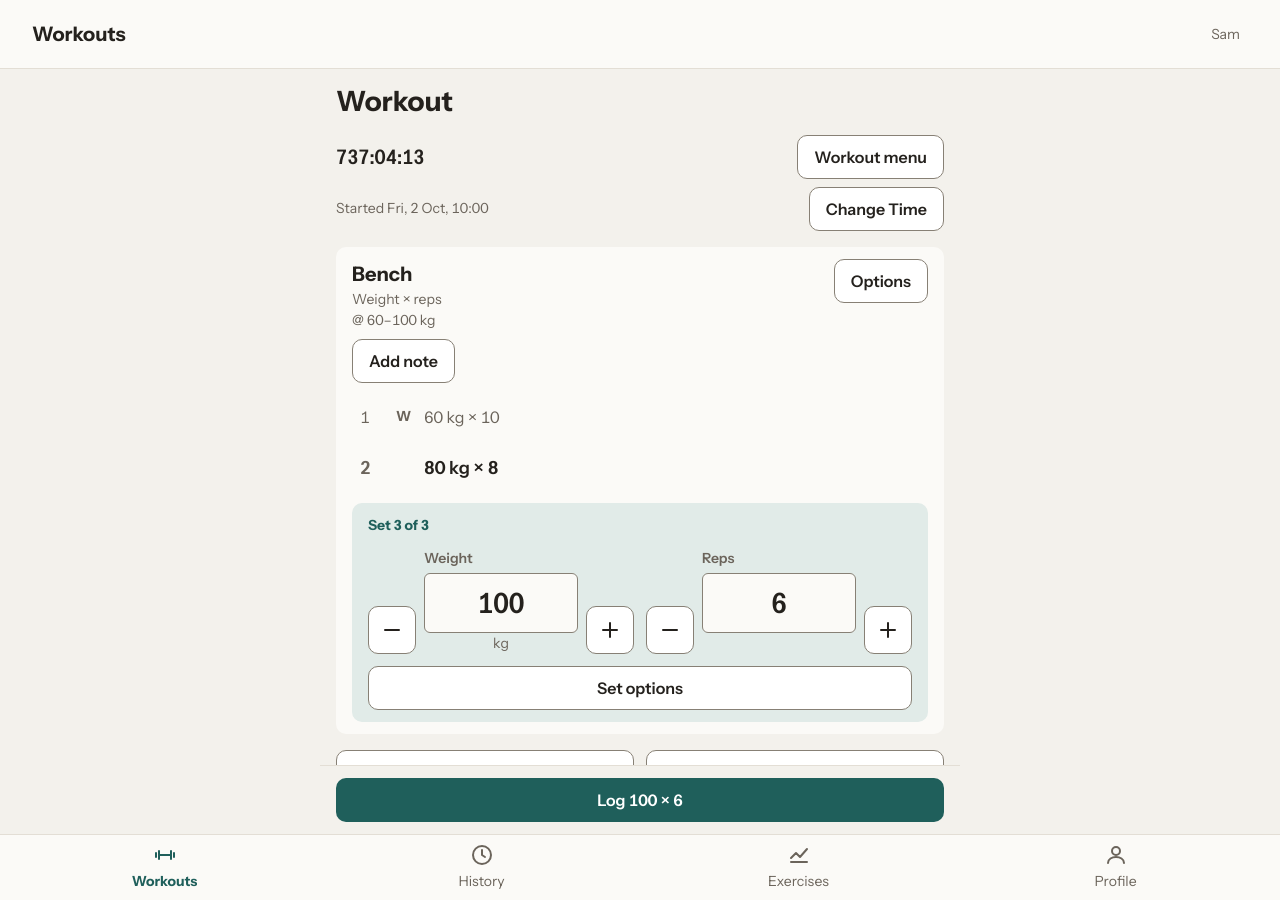
10.2 AC25 — a count change that is not this row's own log › deleting a set steps the label back and reseeds an untouched draft
Expected: the heading "Workout" is shown, x1=336 y1=84 x2=453 y2=118
Expected: the text "Set 3 of 3" is shown, x1=368 y1=515 x2=429 y2=536
Click the button "2 80 kg × 8": (461,468) x1=352 y1=447 x2=928 y2=491
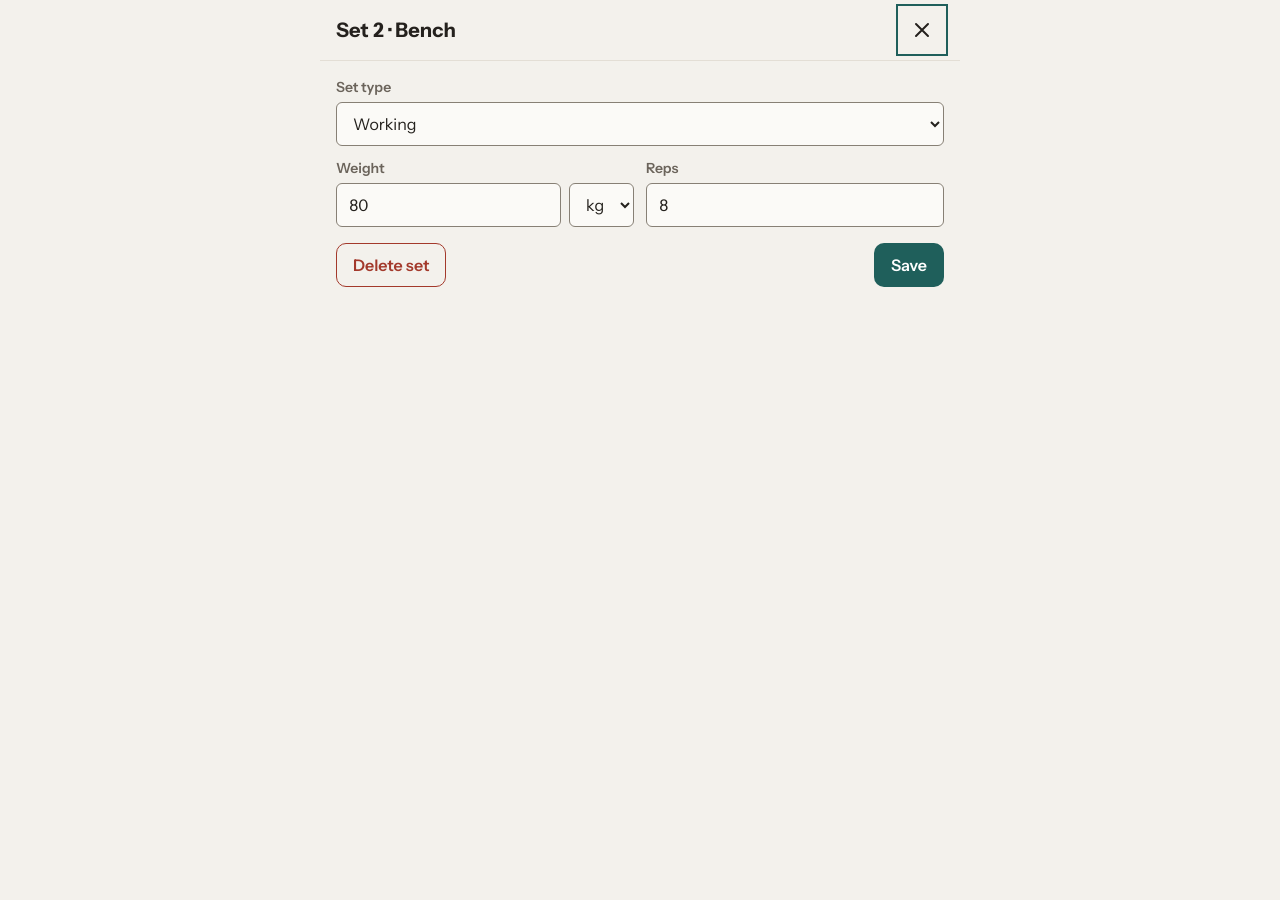
Click the button "Delete set": (391,265) x1=336 y1=243 x2=446 y2=287
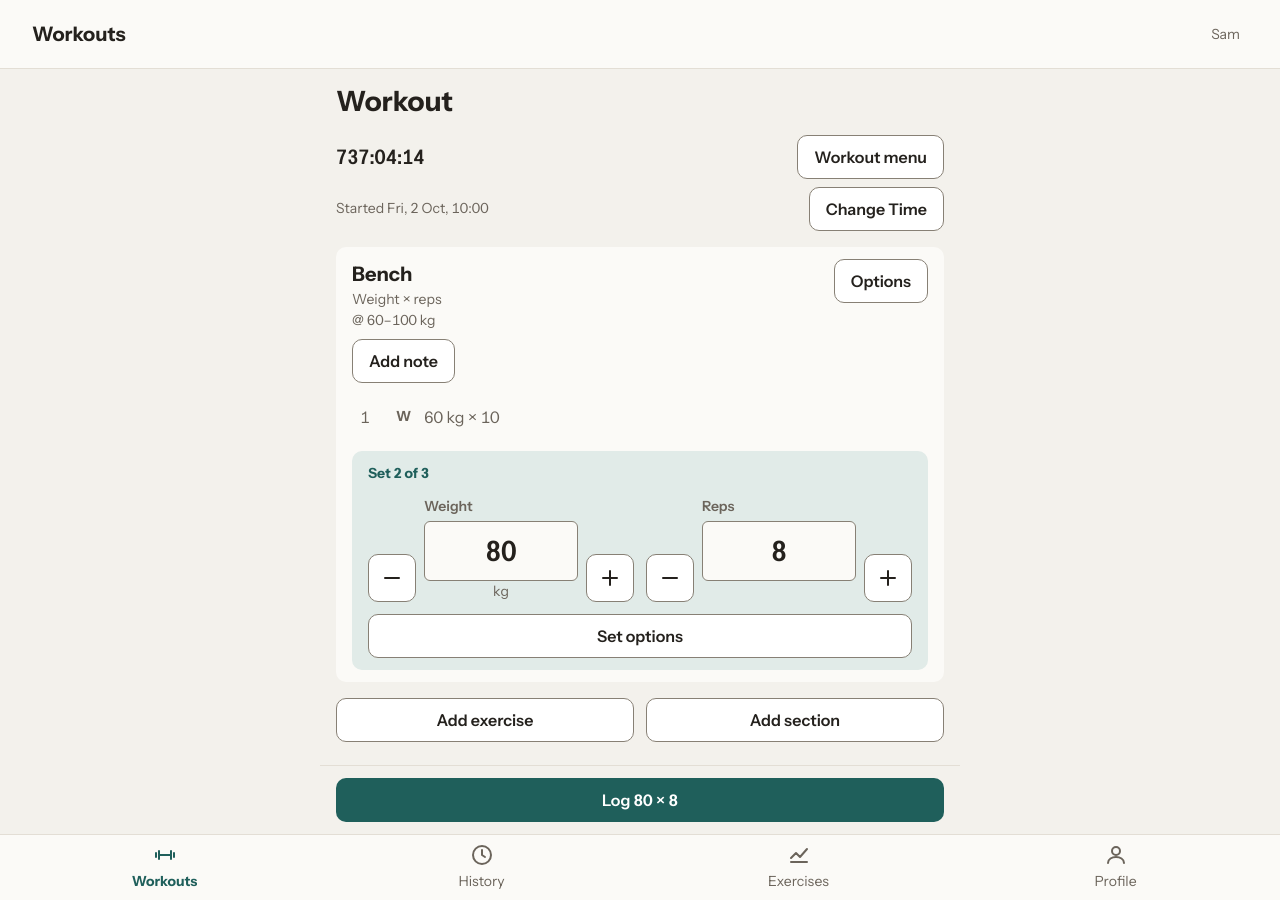
Result: the text "Set 2 of 3" is shown at x1=368 y1=463 x2=429 y2=484
Result: the field labelled "Weight" holds "80" at x1=424 y1=521 x2=578 y2=581
Result: the field labelled "Reps" holds "8" at x1=702 y1=521 x2=856 y2=581
